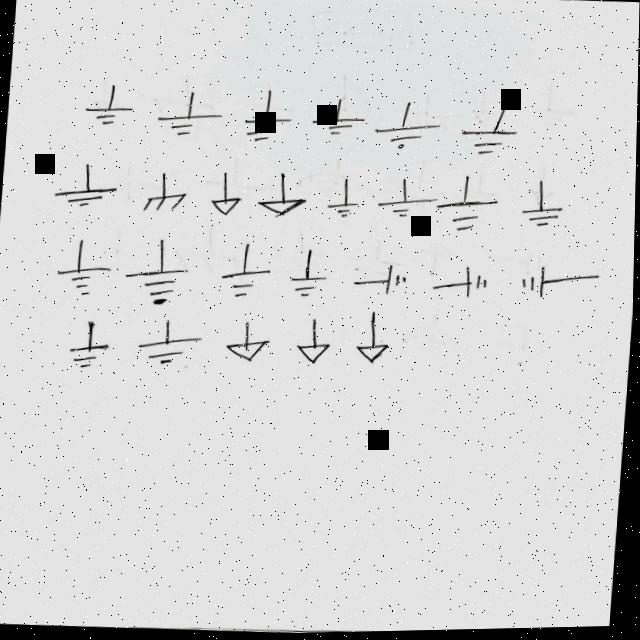ground: (116, 243, 201, 309), (369, 104, 447, 159), (50, 248, 118, 302), (233, 94, 301, 148), (437, 186, 504, 239), (59, 329, 124, 381), (459, 108, 524, 160), (304, 102, 375, 147), (44, 171, 120, 213), (135, 329, 206, 373), (155, 96, 222, 141), (511, 262, 580, 304), (220, 253, 273, 302), (131, 179, 194, 219), (221, 329, 278, 373), (375, 188, 439, 226), (253, 182, 315, 221), (516, 188, 566, 236), (83, 86, 133, 131), (291, 258, 338, 303), (202, 180, 247, 224), (290, 332, 339, 371), (353, 321, 393, 367), (447, 270, 497, 305), (322, 187, 362, 224), (368, 266, 414, 298)
